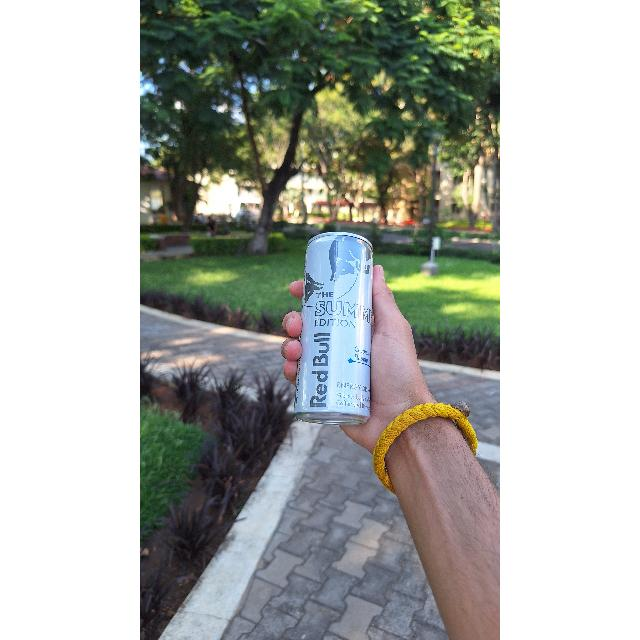Redbull Summer Edition: (300, 234, 372, 426)
